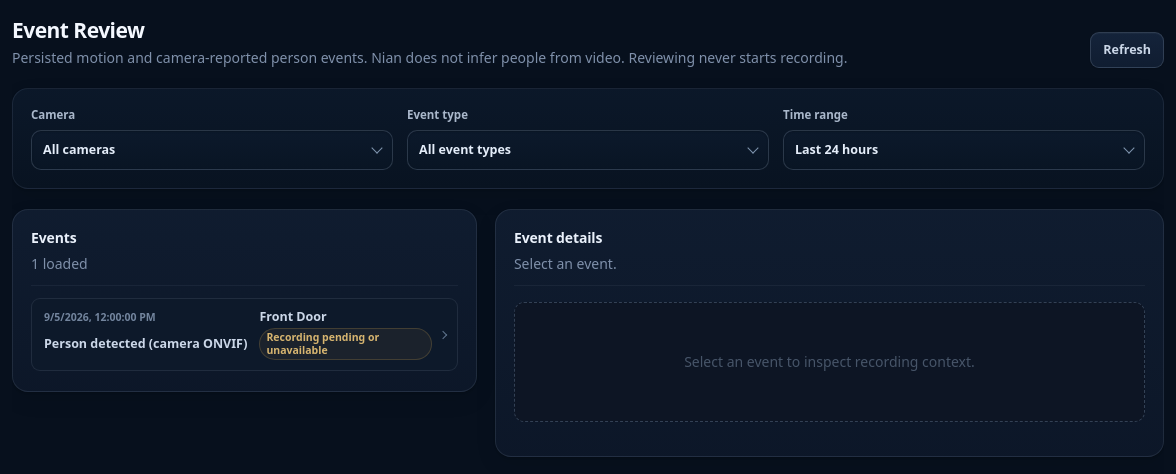
it: EventReviewScreen › labels camera ONVIF person events distinctly without claiming Nian AI
Click the button "Person detected (camera ONVIF)" at (244, 335), box left=31, top=298, right=458, bottom=371
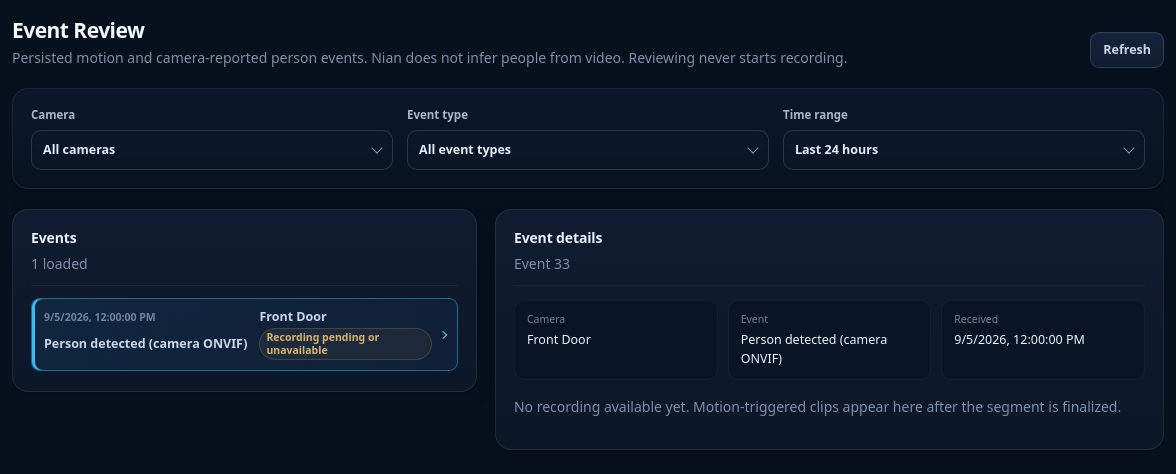
Expected: the text "Nian does not infer people" is shown, left=12, top=48, right=848, bottom=67
Now the text "Person detected (camera ONVIF)" below "Received" is shown, box left=741, top=332, right=887, bottom=367
